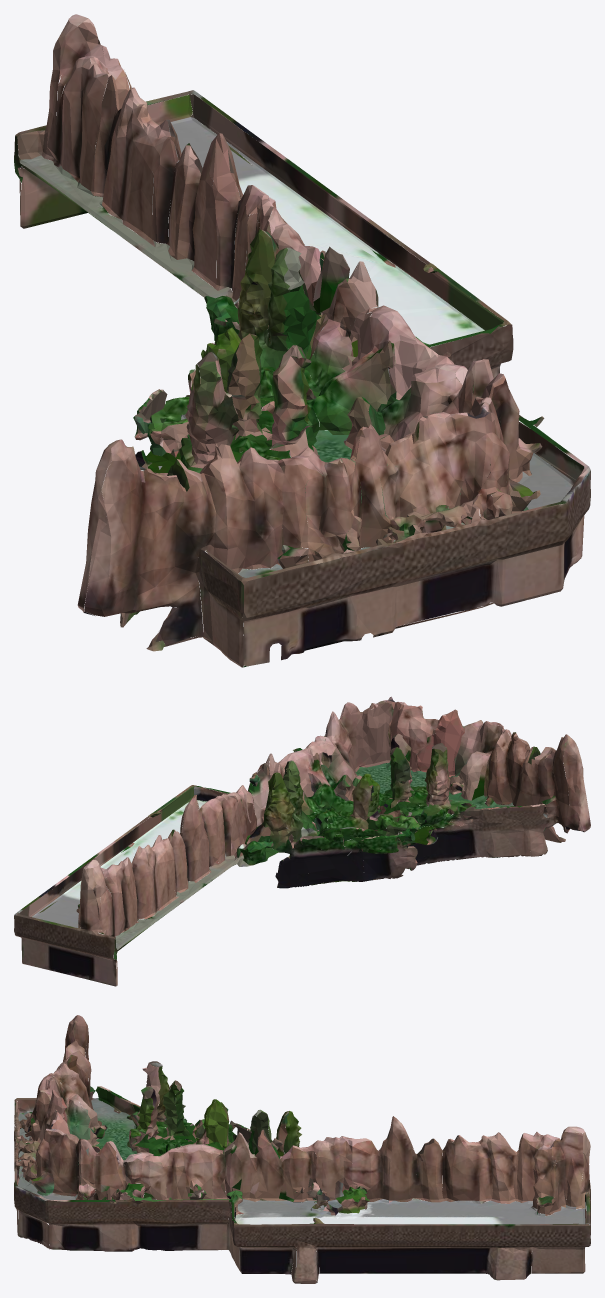
File: 08_danxia_colonnade.glb
3 renders of one model, top to bottom at view 1: azimuth 30°, elevation 25°; view 2: azimuth 150°, elevation 25°; view 3: azimuth 270°, elevation 25°, orthographic. The views are drawn at different scales.
Parts seen in each view (by area): view 1: 08_danxia_colonnade.ply; view 2: 08_danxia_colonnade.ply; view 3: 08_danxia_colonnade.ply.
Part boxes in pixels (left/top/right/bottom): 08_danxia_colonnade.ply: left=14, top=14, right=590, bottom=667; 08_danxia_colonnade.ply: left=14, top=696, right=590, bottom=986; 08_danxia_colonnade.ply: left=14, top=1015, right=590, bottom=1283.
Size of the model in its own units: 0.6709 by 0.2301 by 0.9999.
Materials: 1 (1 with a texture image).
